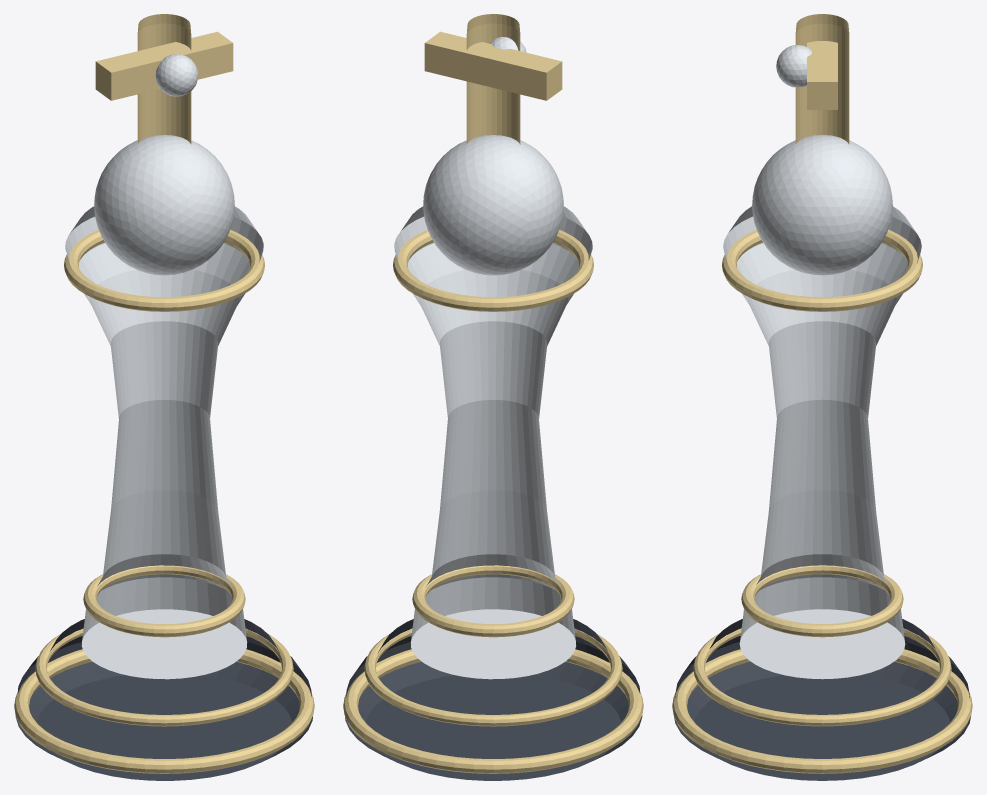
The model's file is king.glb.
3 views of the same model, side by side, from view 1: azimuth 30°, elevation 25°; view 2: azimuth 150°, elevation 25°; view 3: azimuth 270°, elevation 25° (orthographic).
Parts seen in each view (by area): view 1: king_Polished Platinum, king_Champagne Gold, king_Obsidian Enamel; view 2: king_Polished Platinum, king_Champagne Gold, king_Obsidian Enamel; view 3: king_Polished Platinum, king_Champagne Gold, king_Obsidian Enamel.
Boxes of the visible parts, <box> form: king_Polished Platinum: <box>65,54,263,679</box>; king_Champagne Gold: <box>14,14,314,773</box>; king_Obsidian Enamel: <box>15,619,312,780</box>; king_Polished Platinum: <box>394,36,592,679</box>; king_Champagne Gold: <box>343,14,643,773</box>; king_Obsidian Enamel: <box>345,619,642,780</box>; king_Polished Platinum: <box>723,45,921,679</box>; king_Champagne Gold: <box>672,14,972,773</box>; king_Obsidian Enamel: <box>674,619,970,780</box>.
Size of the model in its own units: 0.726 by 1.87 by 0.726.
